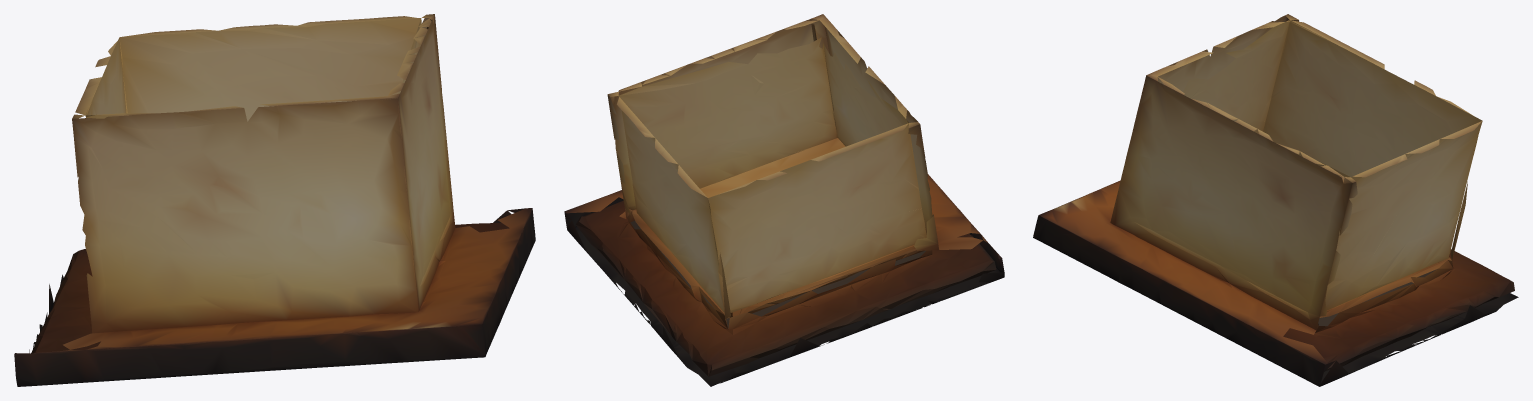
Rendered from step5_occluded_submesh_00.obj.
The picture shows the model from 3 angles, left to right: view 1: azimuth 30°, elevation 25°; view 2: azimuth 150°, elevation 25°; view 3: azimuth 270°, elevation 25°; orthographic projection. The views are drawn at different scales.
Bounding box in the file's own units: 0.5147 × 0.2861 × 0.4976.
